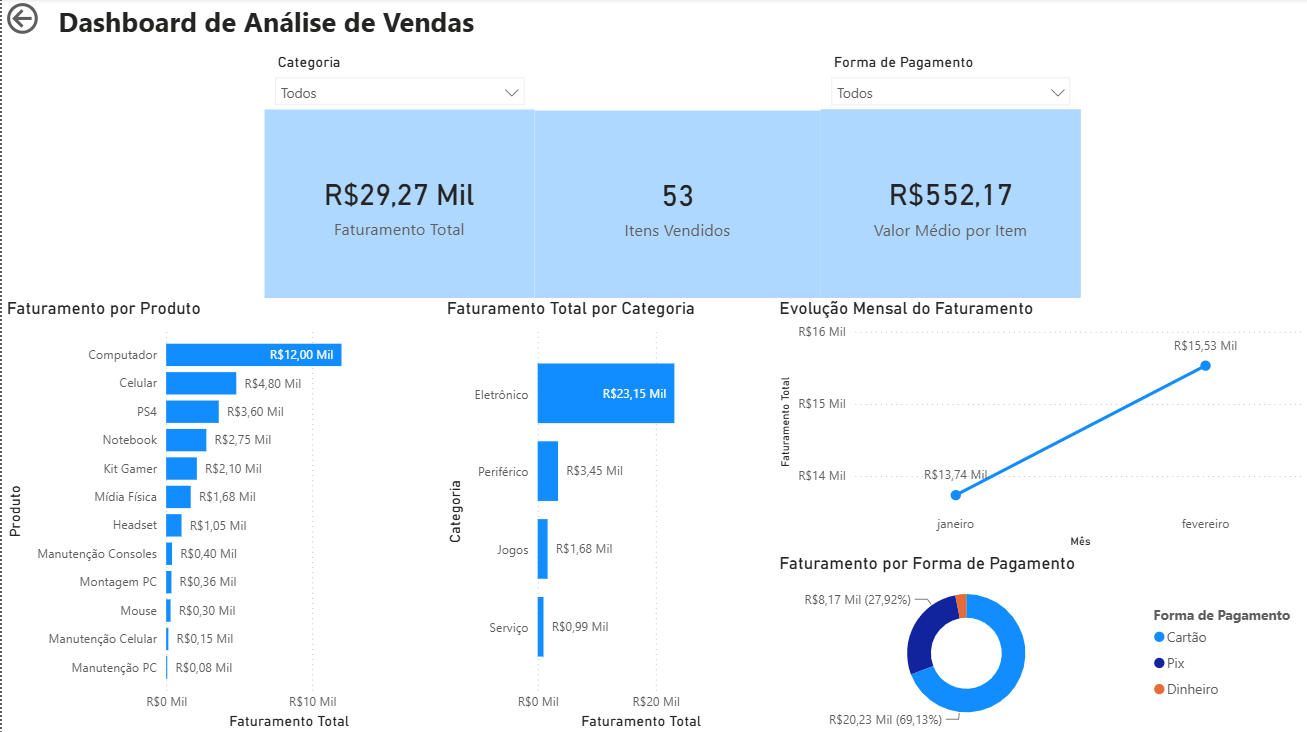

What the dashboard file says about the page in this screenshot:
{"tool":"powerbi","page":{"name":"Página 1","canvas":[1280,720],"ordinal":0},"visuals":[{"type":"card","fields":{"Values":["Tabela2.Faturamento Total"]},"box":[256.8,108.8,264.1,184.6],"z":0},{"type":"actionButton","box":[0,0,100,40],"z":1000},{"type":"card","fields":{"Values":["Tabela2.Itens Vendidos"]},"box":[520.9,110.1,280,184.6],"z":2000},{"type":"card","fields":{"Values":["Tabela2.Ticket Médio"]},"box":[801,108.8,254.3,185.9],"z":3000},{"type":"clusteredBarChart","fields":{"Category":["Tabela2.Categoria"],"Y":["Tabela2.Faturamento Total"]},"box":[430.4,293.5,325.3,426.8],"z":4000},{"type":"clusteredBarChart","title":"Faturamento por Produto","fields":{"Category":["Tabela2.Produto"],"Y":["Tabela2.Faturamento Total"]},"box":[0,293.5,430.4,426.8],"z":5000},{"type":"lineChart","title":"Evolução Mensal do Faturamento","fields":{"Category":["Tabela2.Data.Variation.Hierarquia de datas.Mês"],"Y":["Tabela2.Faturamento Total"]},"box":[755.7,293.5,524.6,249.5],"z":6000},{"type":"donutChart","title":"Faturamento por Forma de Pagamento","fields":{"Category":["Tabela2.Forma de Pagamento"],"Y":["Tabela2.Faturamento Total"]},"box":[755.7,542.9,524.6,177.3],"z":7000},{"type":"slicer","fields":{"Values":["Tabela2.Categoria"]},"box":[256.8,48.9,264.1,59.9],"z":8000},{"type":"slicer","fields":{"Values":["Tabela2.Forma de Pagamento"]},"box":[801,48.9,254.3,58.7],"z":9000},{"type":"textbox","box":[50.1,0,743.5,48.9],"z":10000}]}

Visuals, with their boxes in screenshot pixels (x1, y1, x2, y2), scaled from the page's 1280x720 canvas onto the 1307x732 screenshot:
card - Tabela2.Faturamento Total: bbox=(262, 111, 532, 298)
actionButton: bbox=(0, 0, 102, 41)
card - Tabela2.Itens Vendidos: bbox=(532, 112, 818, 300)
card - Tabela2.Ticket Médio: bbox=(818, 111, 1078, 300)
clusteredBarChart - Tabela2.Categoria x Tabela2.Faturamento Total: bbox=(439, 298, 772, 731)
"Faturamento por Produto" clusteredBarChart: bbox=(0, 298, 439, 731)
"Evolução Mensal do Faturamento" lineChart: bbox=(772, 298, 1306, 552)
"Faturamento por Forma de Pagamento" donutChart: bbox=(772, 552, 1306, 731)
slicer - Tabela2.Categoria: bbox=(262, 50, 532, 111)
slicer - Tabela2.Forma de Pagamento: bbox=(818, 50, 1078, 109)
textbox: bbox=(51, 0, 810, 50)
